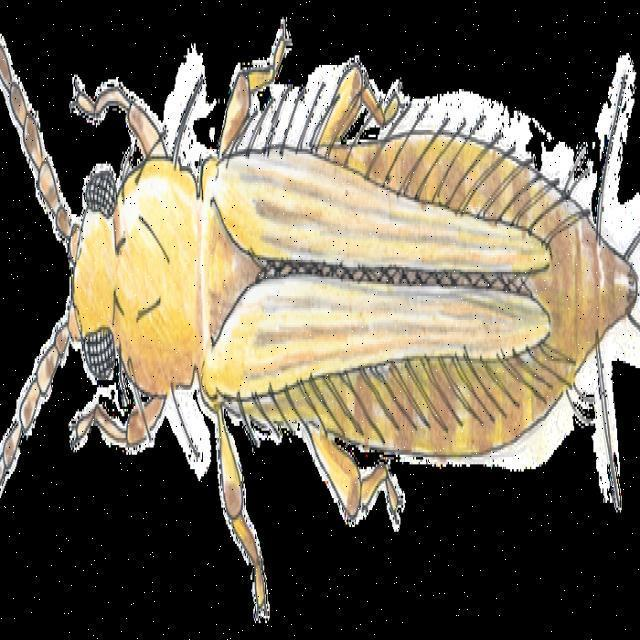Thrips: (40, 26, 640, 503)
